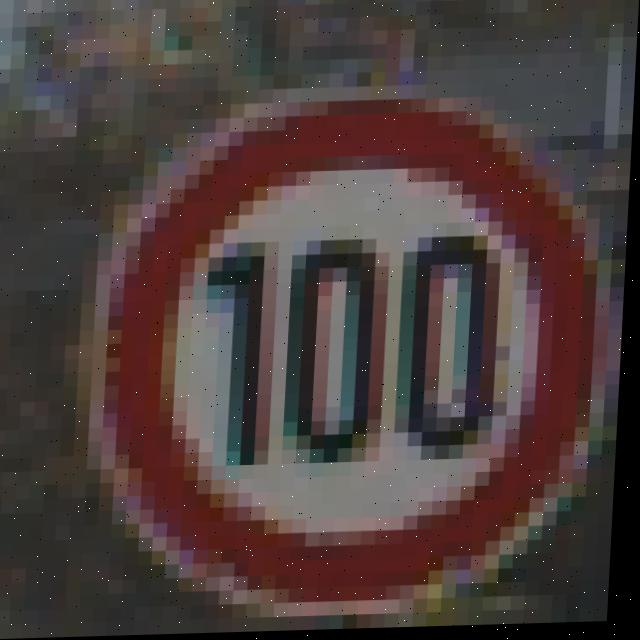speed_limit_100: (92, 107, 606, 636)
